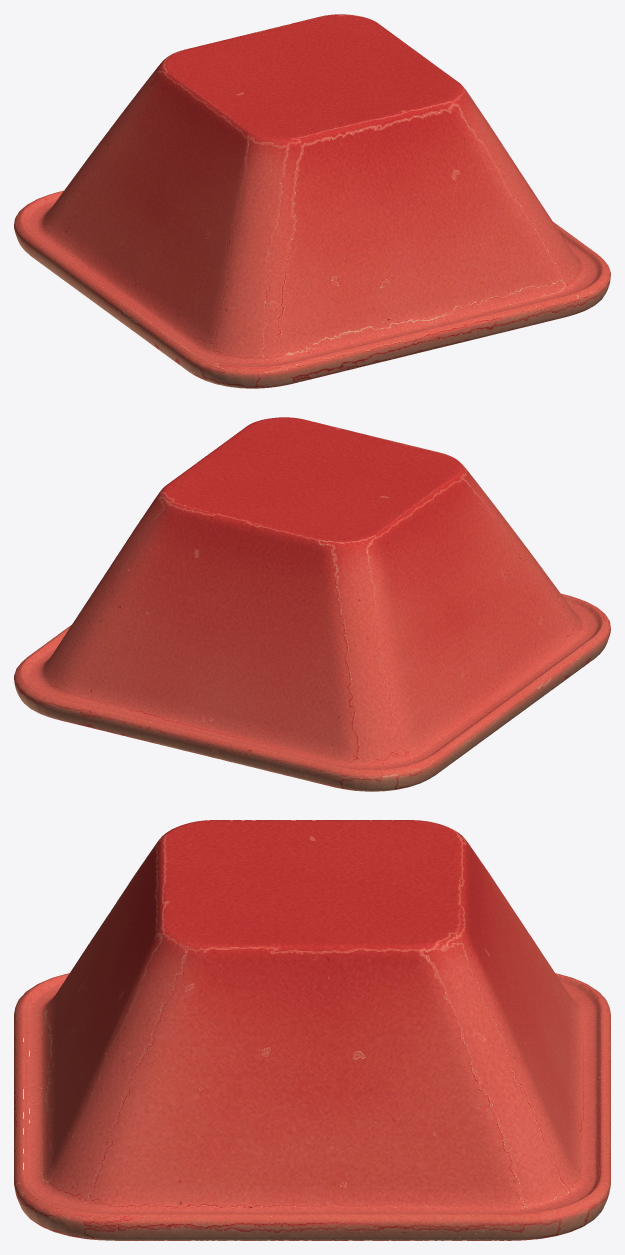
3 views of the same model, one above another, from view 1: azimuth 30°, elevation 25°; view 2: azimuth 150°, elevation 25°; view 3: azimuth 270°, elevation 25° (orthographic). The views are drawn at different scales.
Size of the model in its own units: 1.5 by 0.6579 by 1.5.
1 material, 1 textured.
